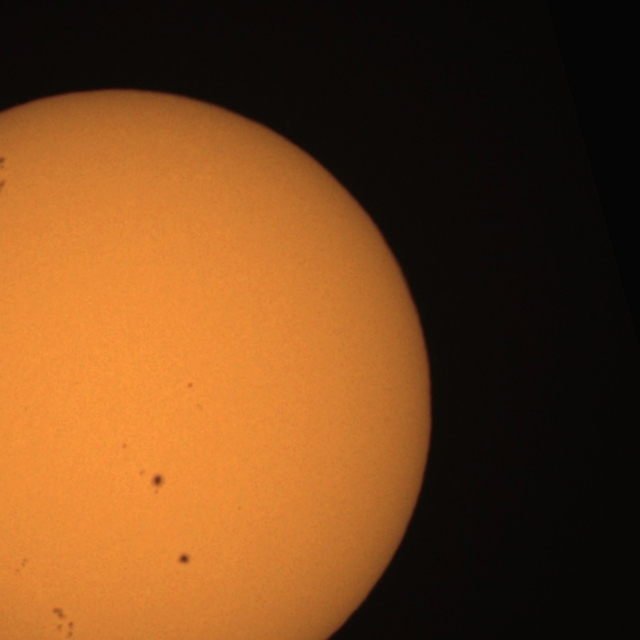sunspot: (50, 607, 76, 639), (139, 469, 166, 496), (176, 552, 192, 566), (16, 557, 29, 574), (0, 154, 7, 174), (0, 177, 8, 193), (186, 381, 194, 390), (121, 442, 128, 450)
